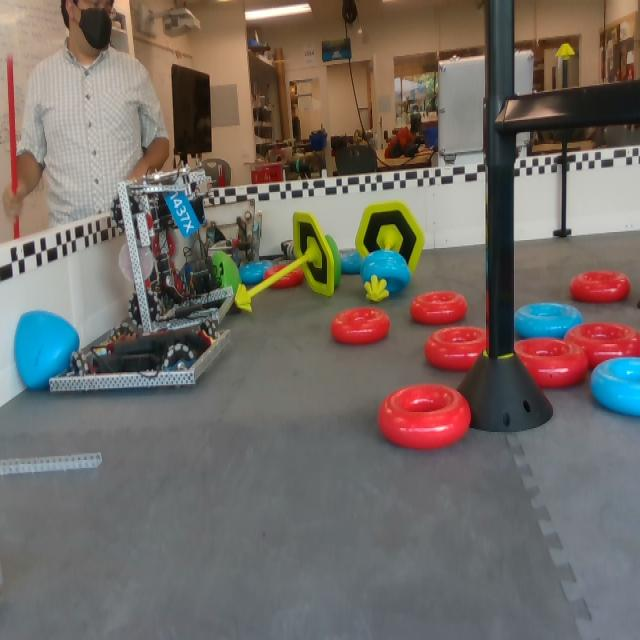Blue-Ring: (592, 353, 639, 416), (511, 303, 585, 337), (357, 252, 415, 290), (238, 257, 271, 285), (343, 253, 362, 272)
Mobile-Goal: (234, 211, 335, 316), (354, 203, 428, 302)
Red-Ring: (376, 385, 472, 453), (515, 339, 587, 388), (566, 323, 639, 361), (424, 327, 486, 371), (409, 291, 468, 328), (330, 309, 390, 345), (567, 269, 629, 303)
Yellow-Stake-Head: (364, 276, 389, 302), (234, 282, 253, 313), (555, 44, 575, 56)
